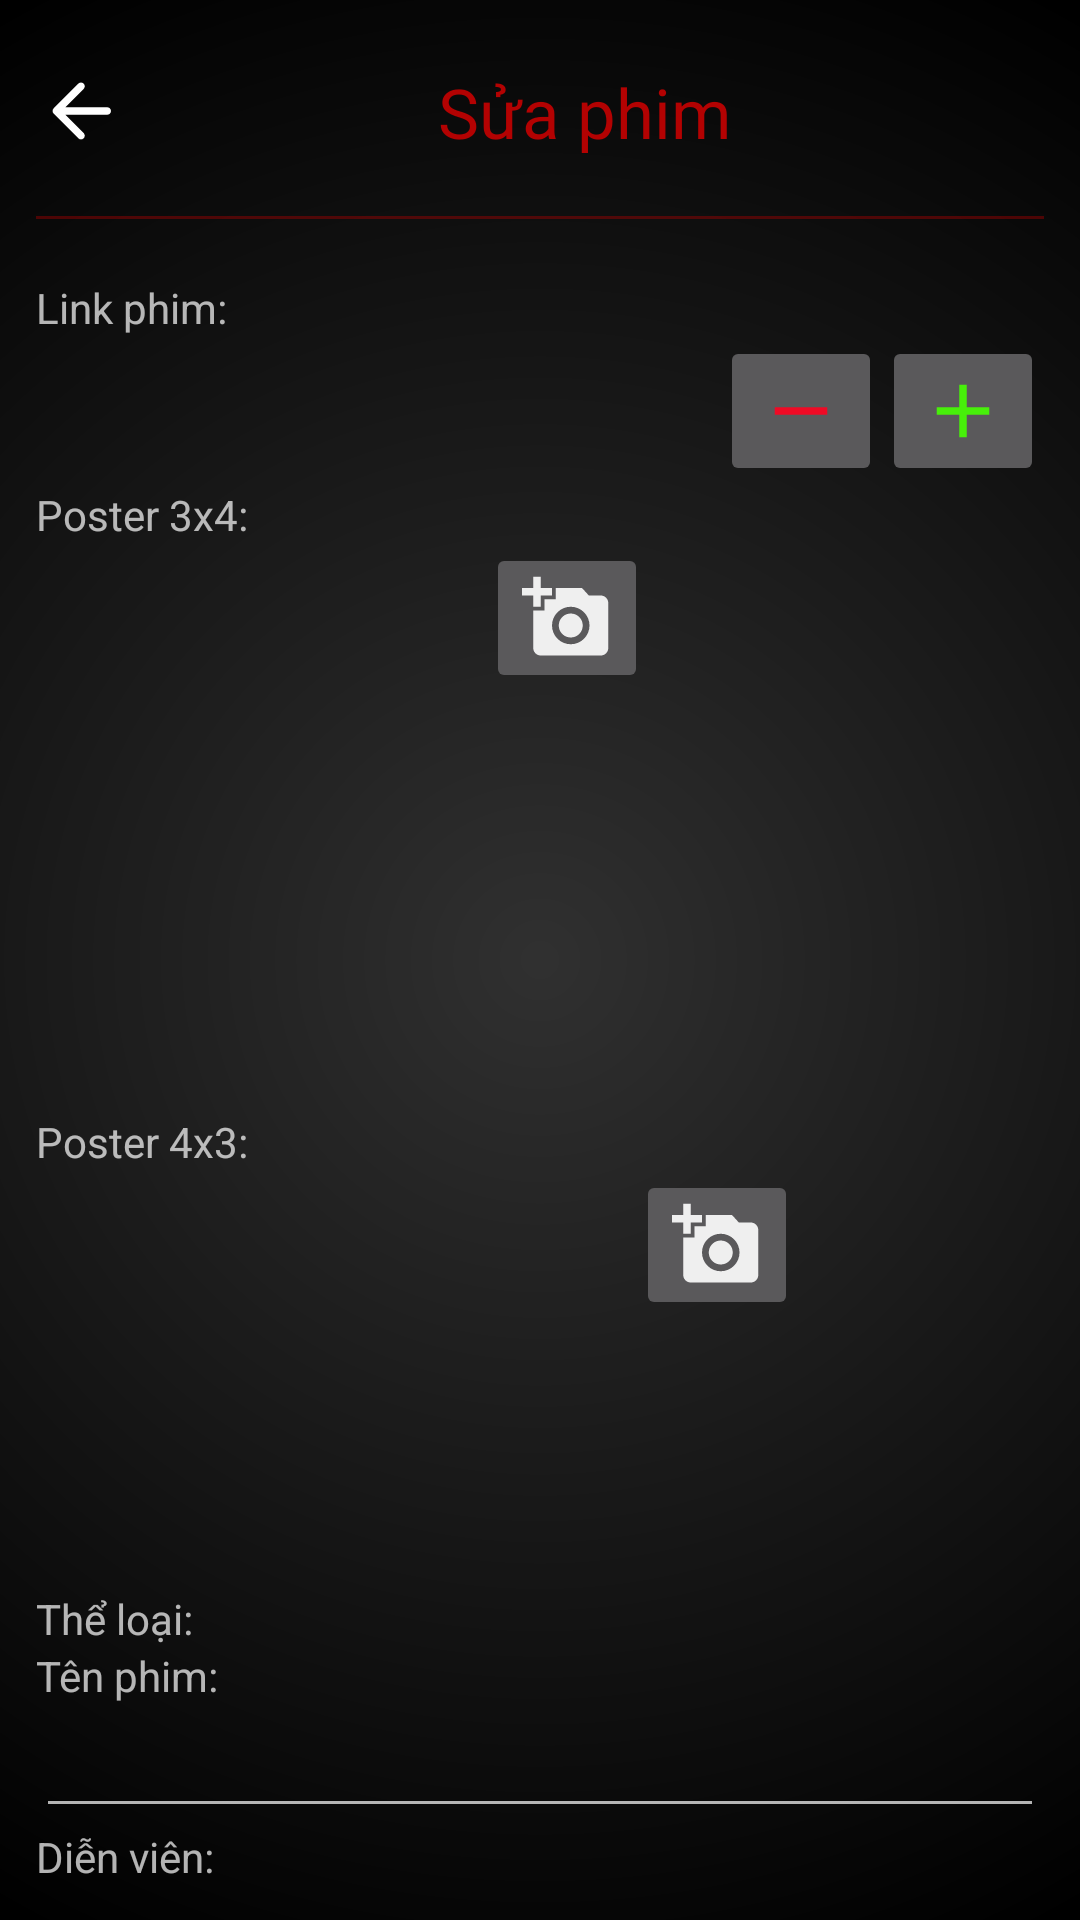

Where icons sit on this 1080 × 1920 app screen, as (x1, y1, x2, y2):
add: (894, 354, 1032, 468)
add photo: (498, 561, 636, 675), (648, 1188, 786, 1302)
arrow back: (52, 82, 111, 140)
remove: (732, 354, 870, 468)
